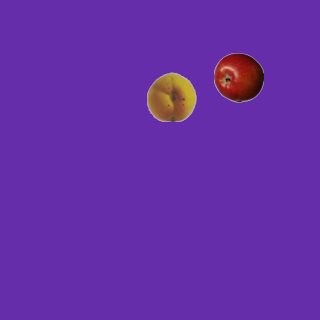Apple Braeburn: (213, 52, 263, 102)
Peach 2: (146, 71, 196, 121)
